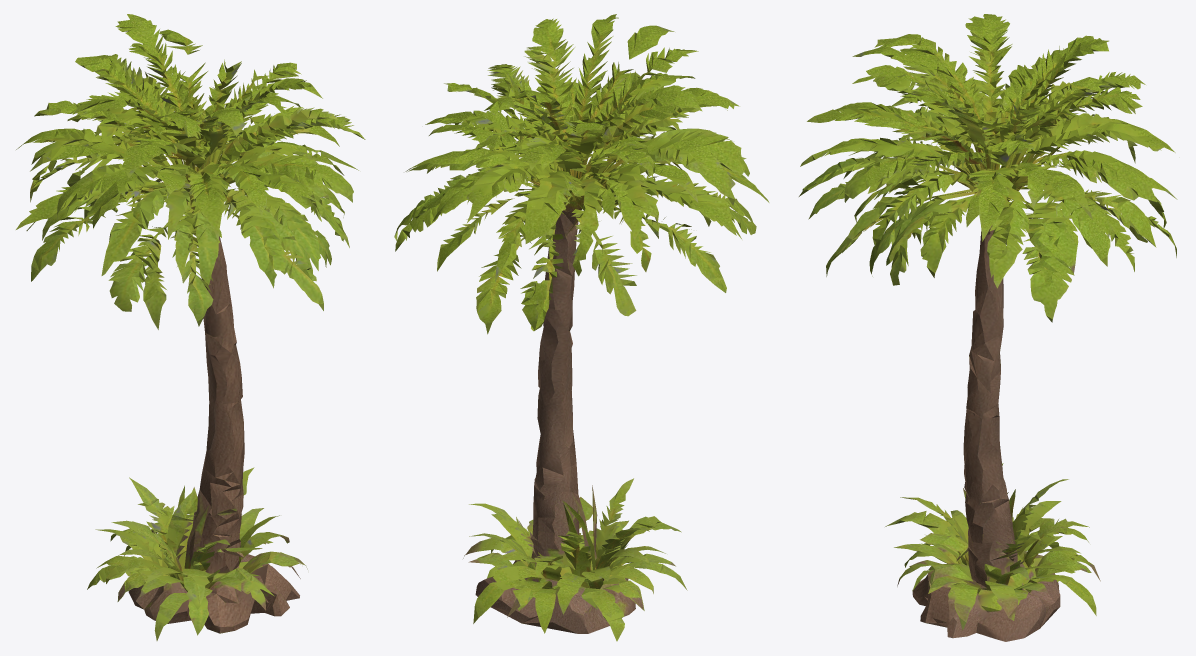
Rendered from TreeFern.glb.
3 views of the same model, side by side, from view 1: azimuth 30°, elevation 25°; view 2: azimuth 150°, elevation 25°; view 3: azimuth 270°, elevation 25° (orthographic).
Size of the model in its own units: 1.23 by 1.89 by 1.19.
1 material, 1 textured.
